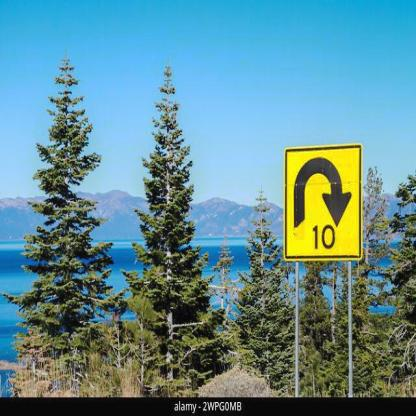U-turn: (281, 147, 361, 260)
